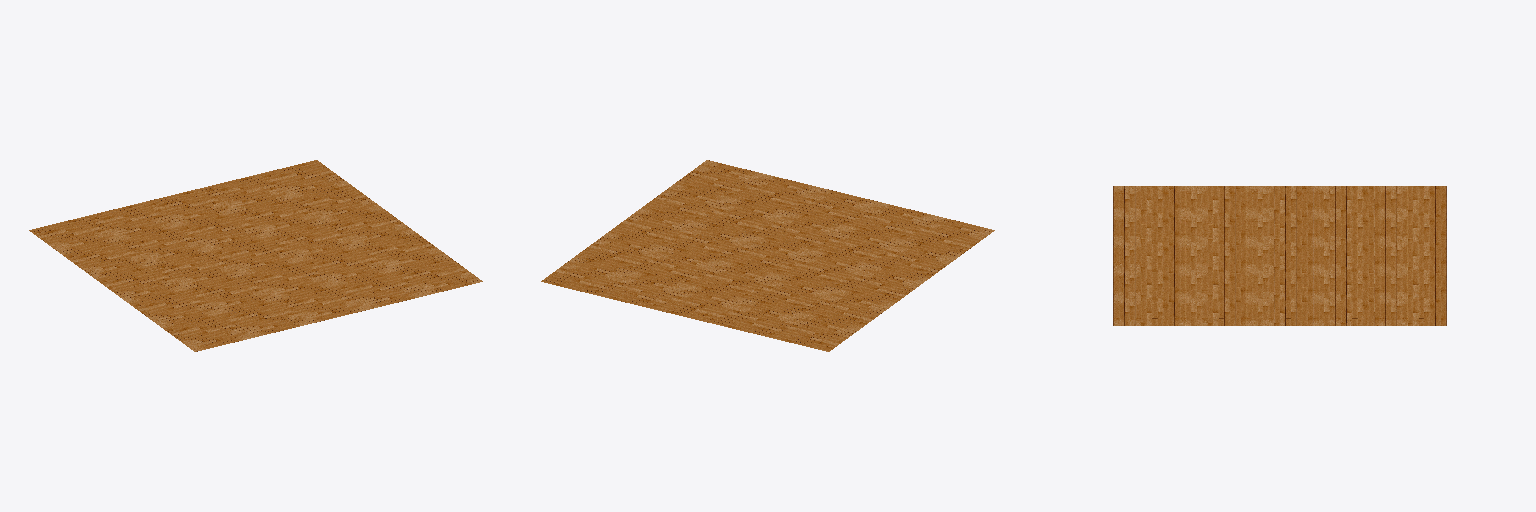
The picture shows the model from 3 angles: view 1: azimuth 30°, elevation 25°; view 2: azimuth 150°, elevation 25°; view 3: azimuth 270°, elevation 25°; orthographic projection.
Parts seen in each view (by area): view 1: Plane; view 2: Plane; view 3: Plane.
Boxes of the visible parts, <box> form: Plane: <box>29,160,482,351</box>; Plane: <box>541,160,994,351</box>; Plane: <box>1113,186,1446,325</box>.
Size of the model in its own units: 10 by 0 by 10.
1 materials, 1 textured.